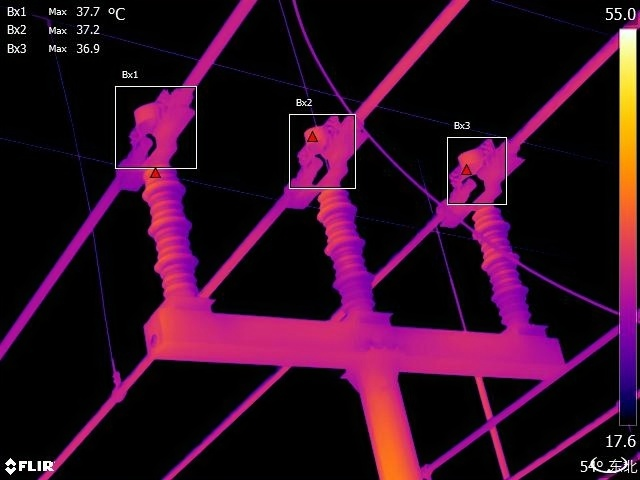clamp: (99, 364, 134, 409)
post insulator: (312, 174, 381, 312), (139, 157, 205, 300), (475, 199, 536, 328)
